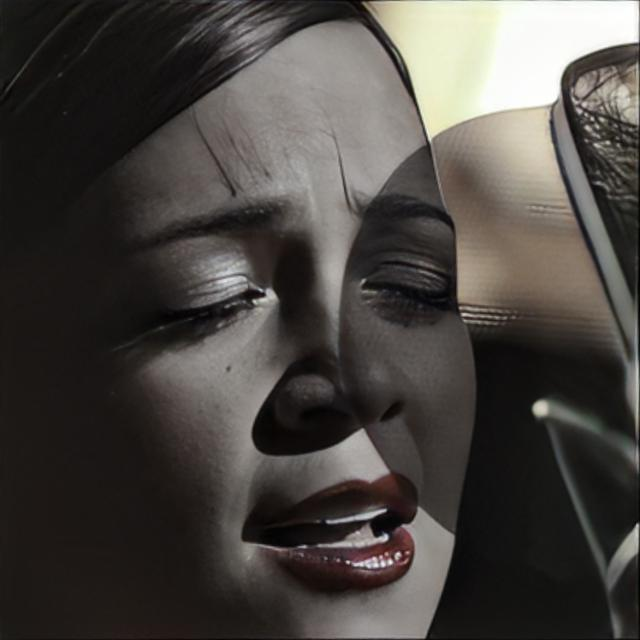sad: (18, 1, 480, 640)
